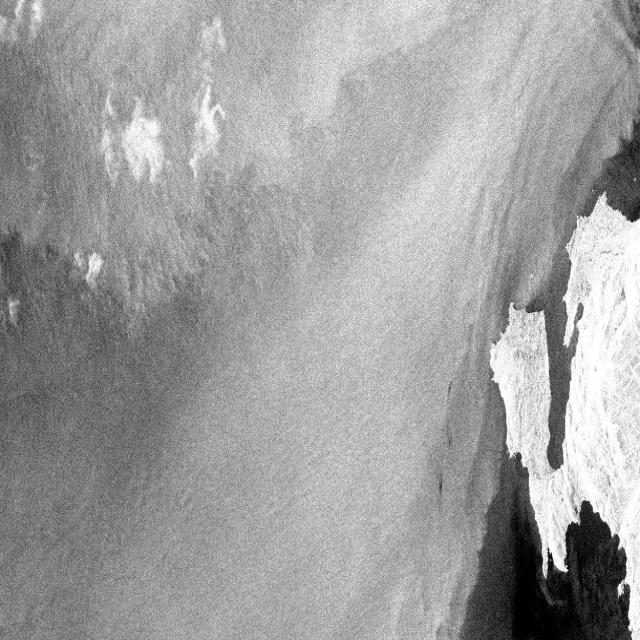look-alike: (463, 441, 632, 640), (588, 96, 640, 223)
oil-spill: (438, 412, 456, 451), (432, 461, 447, 504), (444, 375, 457, 394)
